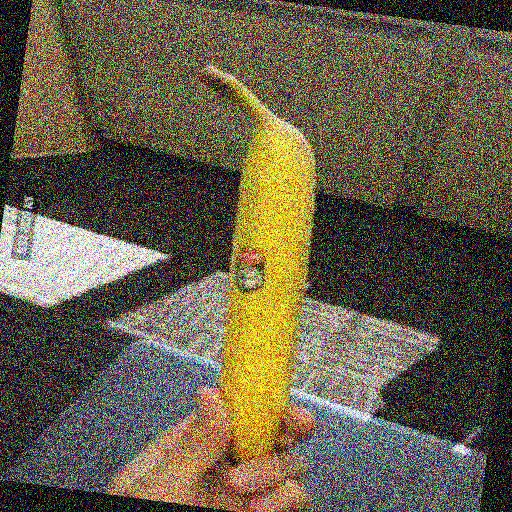fruit: (166, 184, 415, 512)
